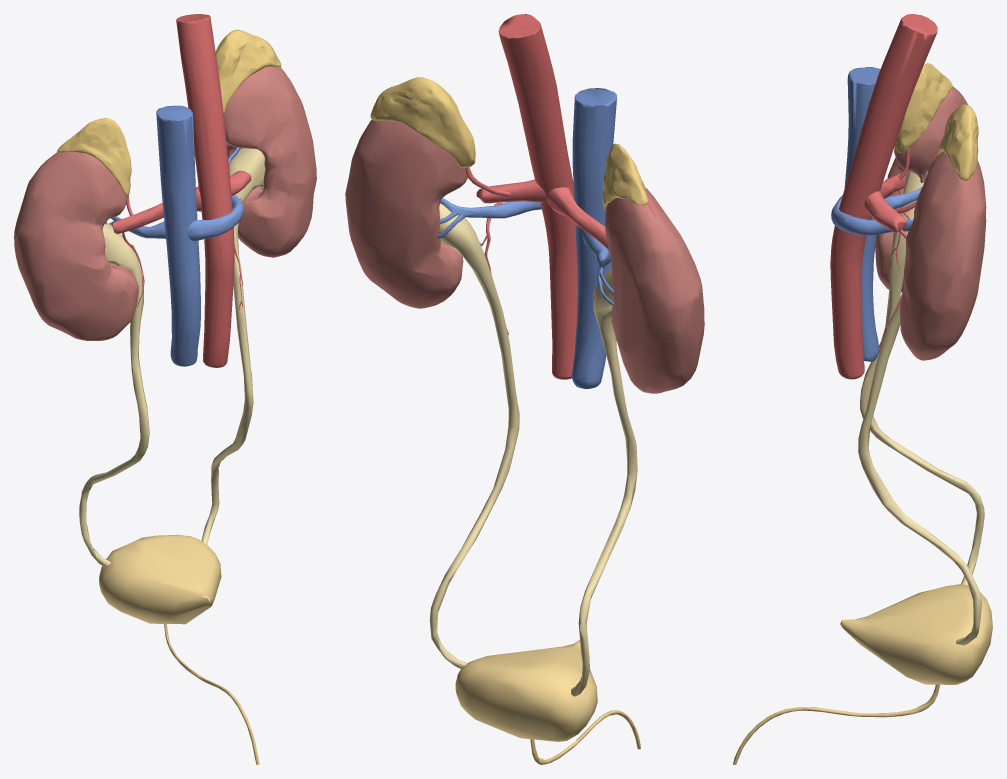
The model's file is excretory.glb.
3 views of the same model, side by side, from view 1: azimuth 30°, elevation 25°; view 2: azimuth 150°, elevation 25°; view 3: azimuth 270°, elevation 25° (orthographic). The views are drawn at different scales.
Parts seen in each view (by area): view 1: kidneys, aorta, bladder, vena_cava, ureters, adrenals, renal_arteries, renal_veins, urethra; view 2: kidneys, aorta, bladder, ureters, vena_cava, adrenals, renal_arteries, renal_veins, urethra; view 3: kidneys, aorta, bladder, ureters, adrenals, vena_cava, renal_arteries, renal_veins, urethra.
Part boxes in pixels (<box>): kidneys: <box>14,66,316,340</box>; aorta: <box>176,14,234,367</box>; bladder: <box>99,534,221,624</box>; vena_cava: <box>156,105,200,366</box>; ureters: <box>79,148,265,566</box>; adrenals: <box>57,29,281,196</box>; renal_arteries: <box>47,152,251,310</box>; renal_veins: <box>109,147,244,241</box>; urethra: <box>164,624,259,764</box>; kidneys: <box>345,119,704,393</box>; aorta: <box>498,14,577,379</box>; bladder: <box>455,640,597,741</box>; ureters: <box>429,203,637,696</box>; vena_cava: <box>572,88,616,389</box>; adrenals: <box>370,77,647,209</box>; renal_arteries: <box>465,167,656,334</box>; renal_veins: <box>437,198,614,306</box>; urethra: <box>530,710,640,764</box>; kidneys: <box>875,86,986,360</box>; aorta: <box>830,14,937,379</box>; bladder: <box>840,584,992,684</box>; ureters: <box>858,171,984,645</box>; adrenals: <box>895,63,978,180</box>; vena_cava: <box>844,67,880,361</box>; renal_arteries: <box>864,147,916,353</box>; renal_veins: <box>831,171,928,235</box>; urethra: <box>733,684,939,764</box>.
Size of the model in its own units: 0.178 by 0.3912 by 0.1219.
